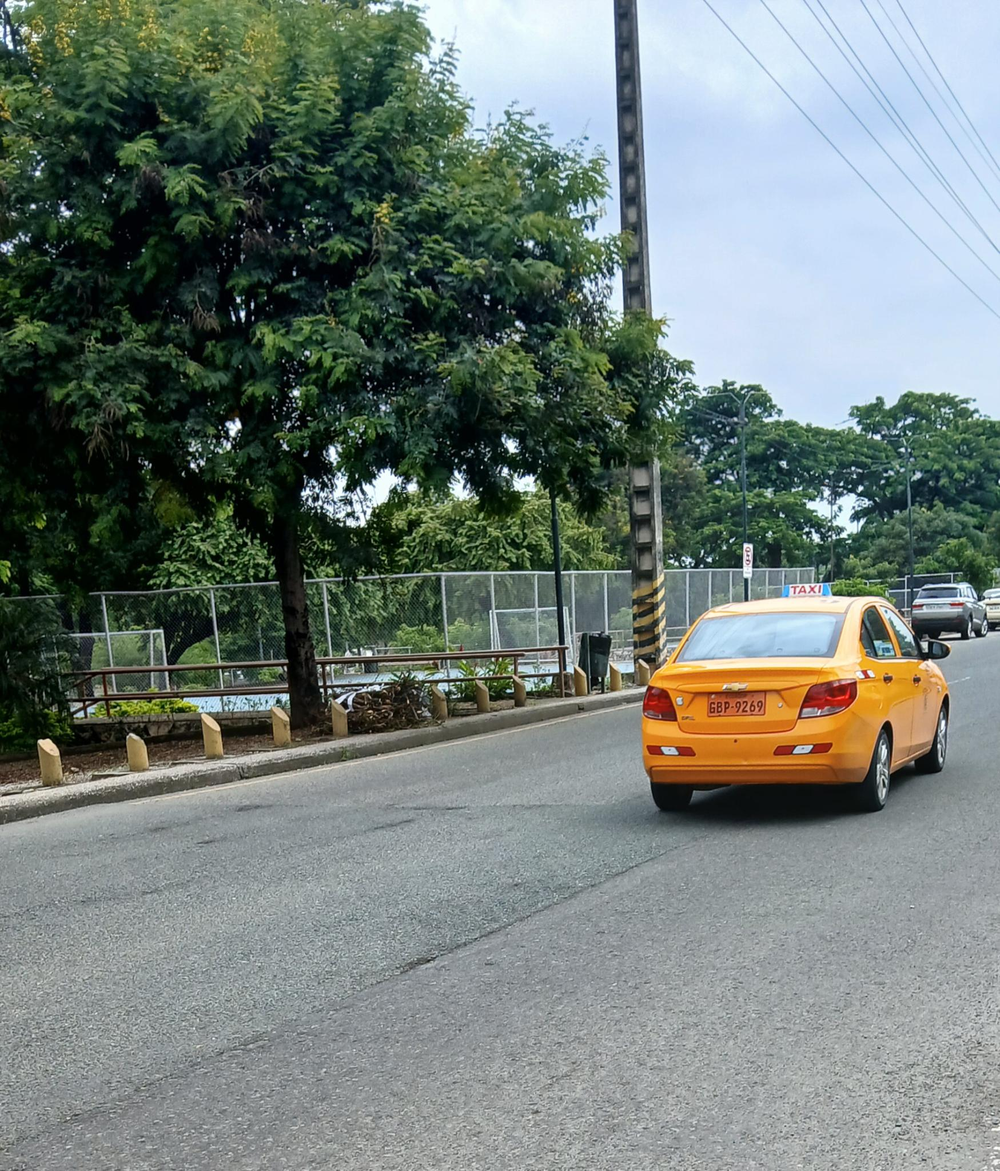license_plate: (705, 691, 767, 717), (925, 604, 944, 610)
